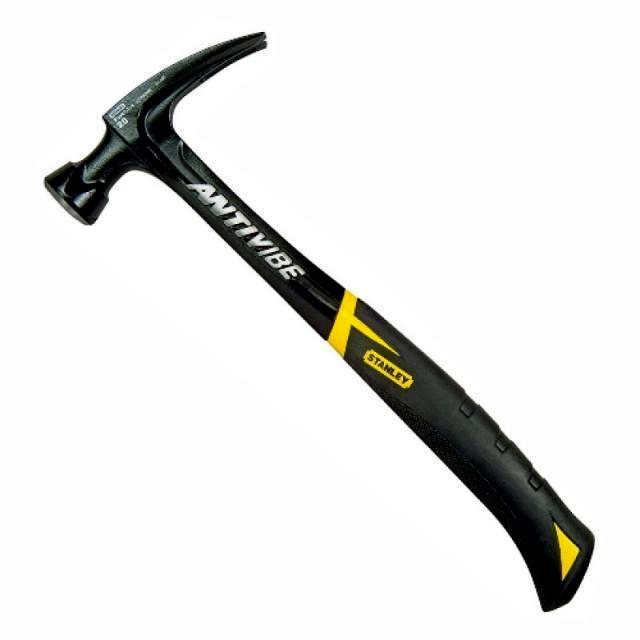hammer: (39, 24, 596, 620)
